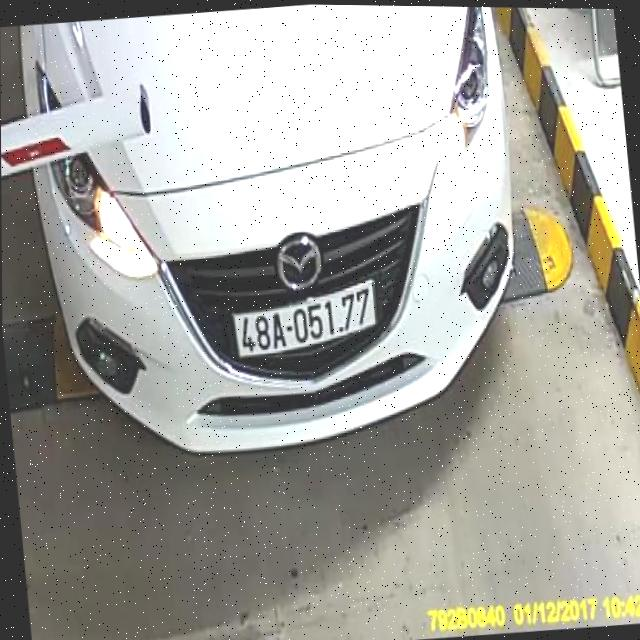car: (12, 0, 541, 481)
plate: (232, 282, 376, 358)
